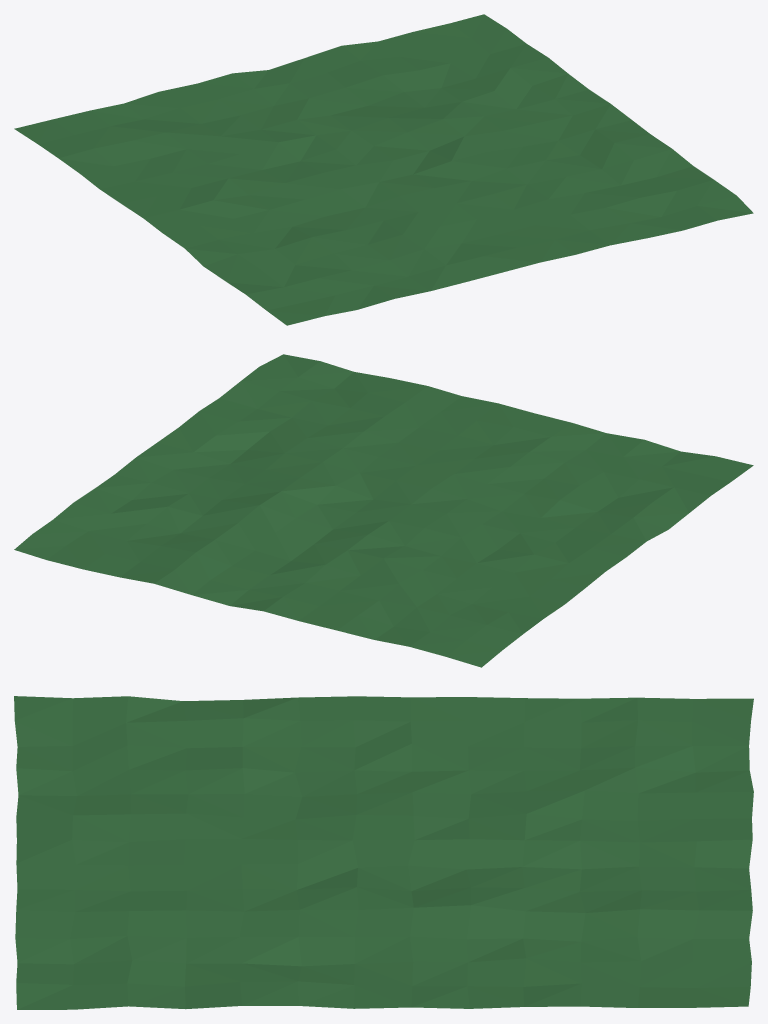
The model's file is ground.dae.
3 views of the same model, one above another, from view 1: azimuth 30°, elevation 25°; view 2: azimuth 150°, elevation 25°; view 3: azimuth 270°, elevation 25° (orthographic). The views are drawn at different scales.
Parts seen in each view (by area): view 1: Ground; view 2: Ground; view 3: Ground.
Boxes of the visible parts, box(x1,y1,x2,y2) form: Ground: box(14, 14, 753, 325); Ground: box(14, 354, 753, 667); Ground: box(14, 696, 753, 1009).
Size of the model in its own units: 20.18 by 20.15 by 0.3536.
